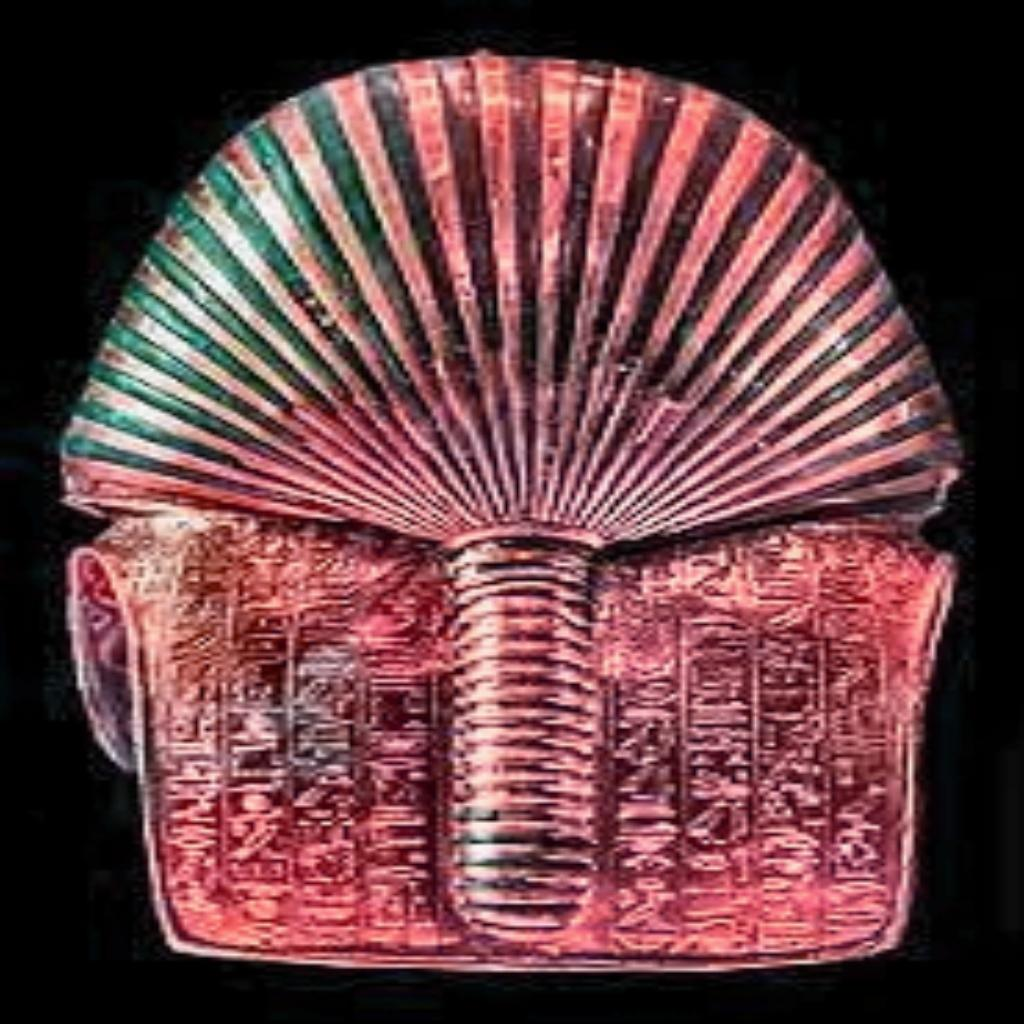Mask of Tutankhamun: (50, 45, 968, 975)
